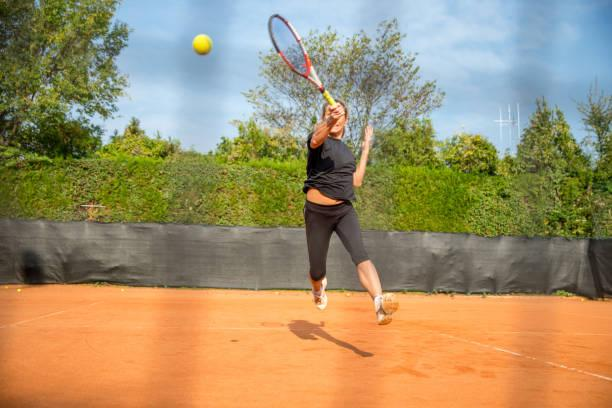ball_tennis: (192, 33, 213, 56)
